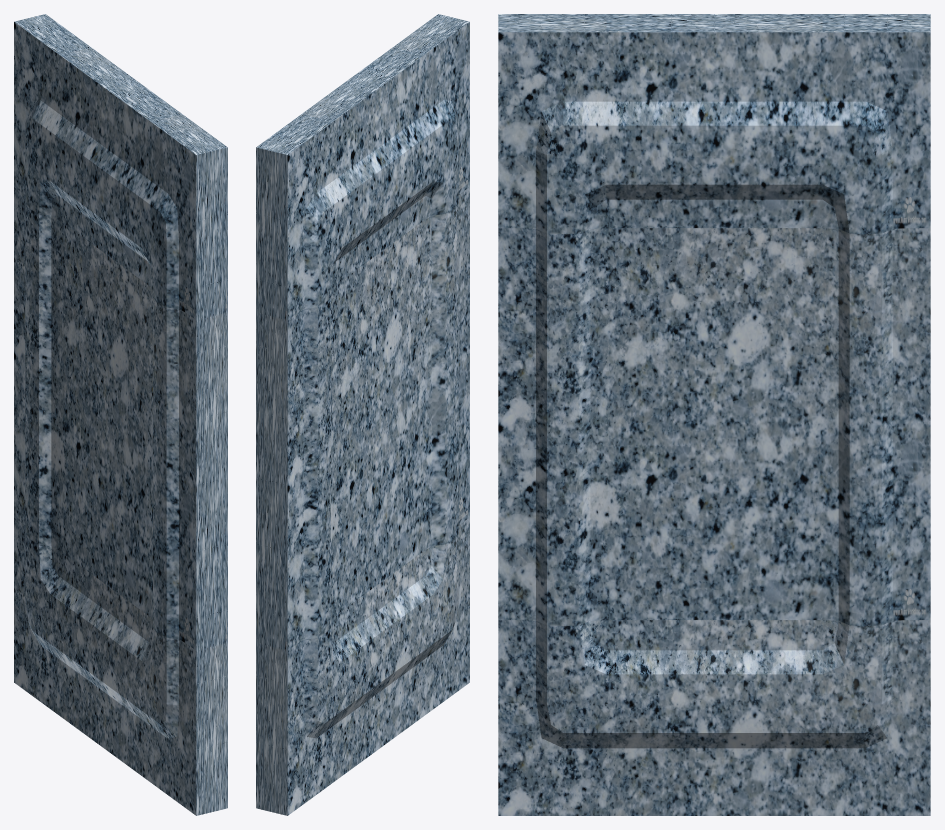
Rendered from MarbleDoorRight.FBX.
3 views of the same model, side by side, from view 1: azimuth 30°, elevation 25°; view 2: azimuth 150°, elevation 25°; view 3: azimuth 270°, elevation 25° (orthographic). The views are drawn at different scales.
Parts seen in each view (by area): view 1: Box002; view 2: Box002; view 3: Box002.
Boxes of the visible parts, left/top/right/bottom form: Box002: left=14, top=14, right=227, bottom=815; Box002: left=256, top=14, right=469, bottom=815; Box002: left=498, top=14, right=930, bottom=815.
Bounding box in the file's own units: 1 × 12 × 6.
